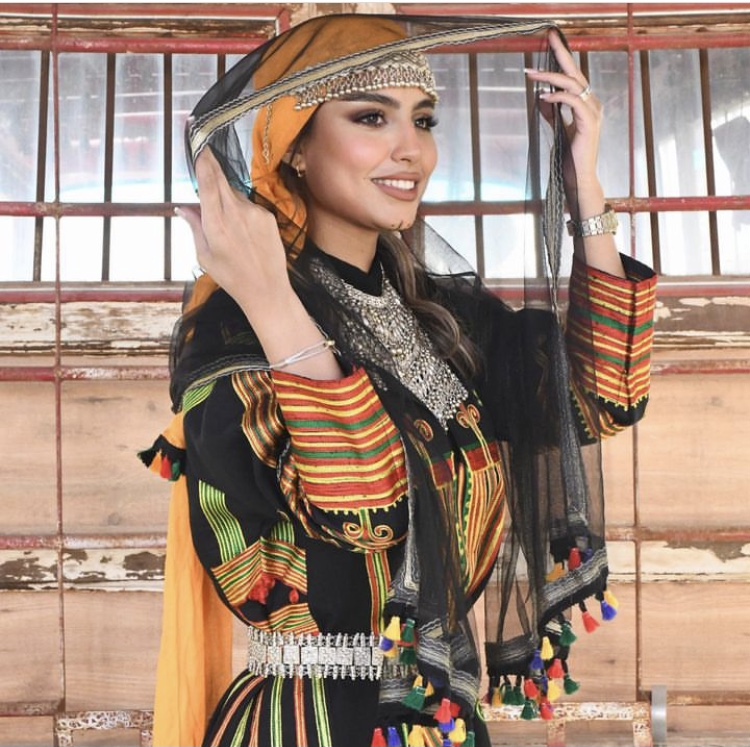Saudi_Founding_Day: (136, 10, 659, 747)
